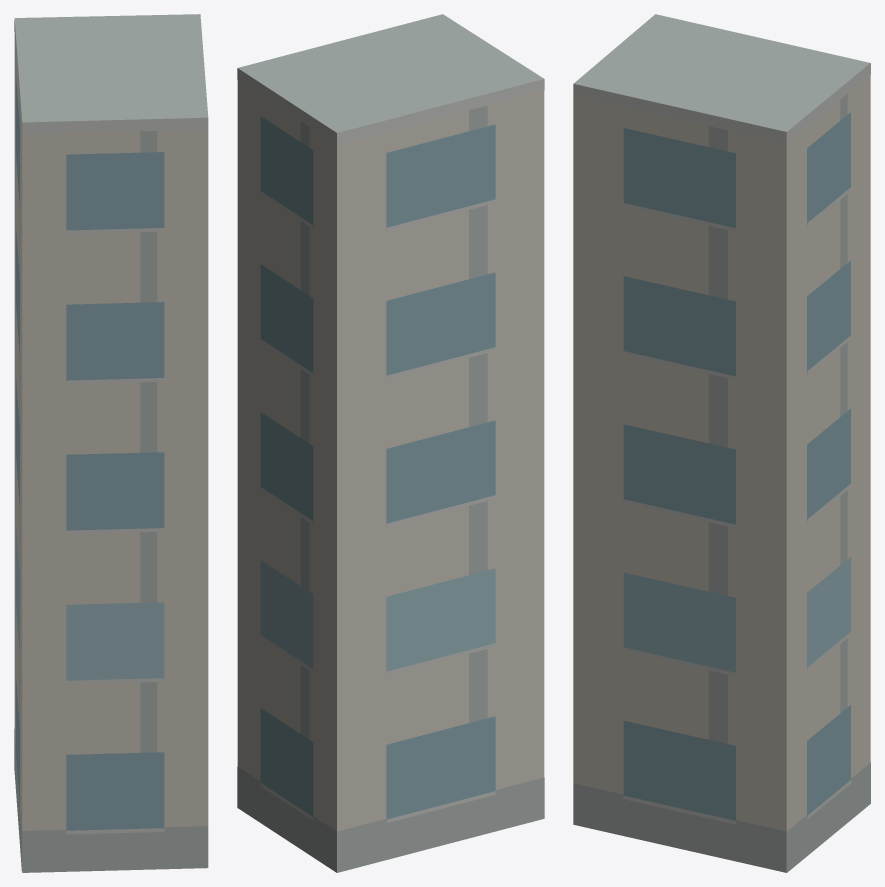
Rendered from survey-upis-32819397.glb.
3 renders of one model, left to right at view 1: azimuth 30°, elevation 25°; view 2: azimuth 150°, elevation 25°; view 3: azimuth 270°, elevation 25°, orthographic.
Parts seen in each view (by area): view 1: survey-upis-32819397.tmp; view 2: survey-upis-32819397.tmp; view 3: survey-upis-32819397.tmp.
Boxes of the visible parts, x1,y1,x2,y2 form: survey-upis-32819397.tmp: (14,14,208,872); survey-upis-32819397.tmp: (237,14,544,872); survey-upis-32819397.tmp: (573,14,870,872).
Bounding box in the file's own units: 5.22 × 15.25 × 5.55.
